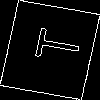T: (25, 25, 82, 64)
